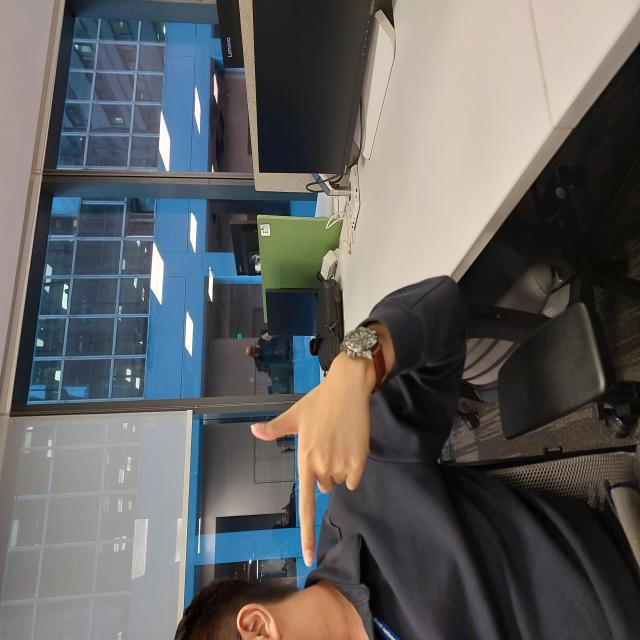G: (73, 250, 255, 372)
